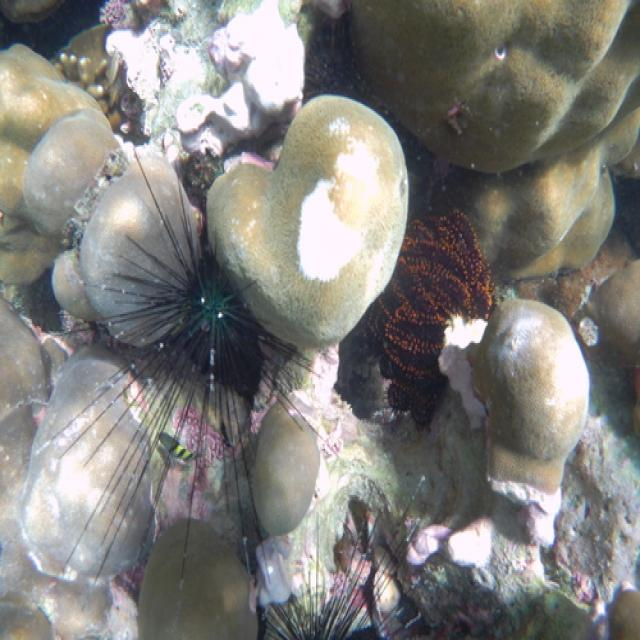Urchin: (66, 152, 322, 589)
